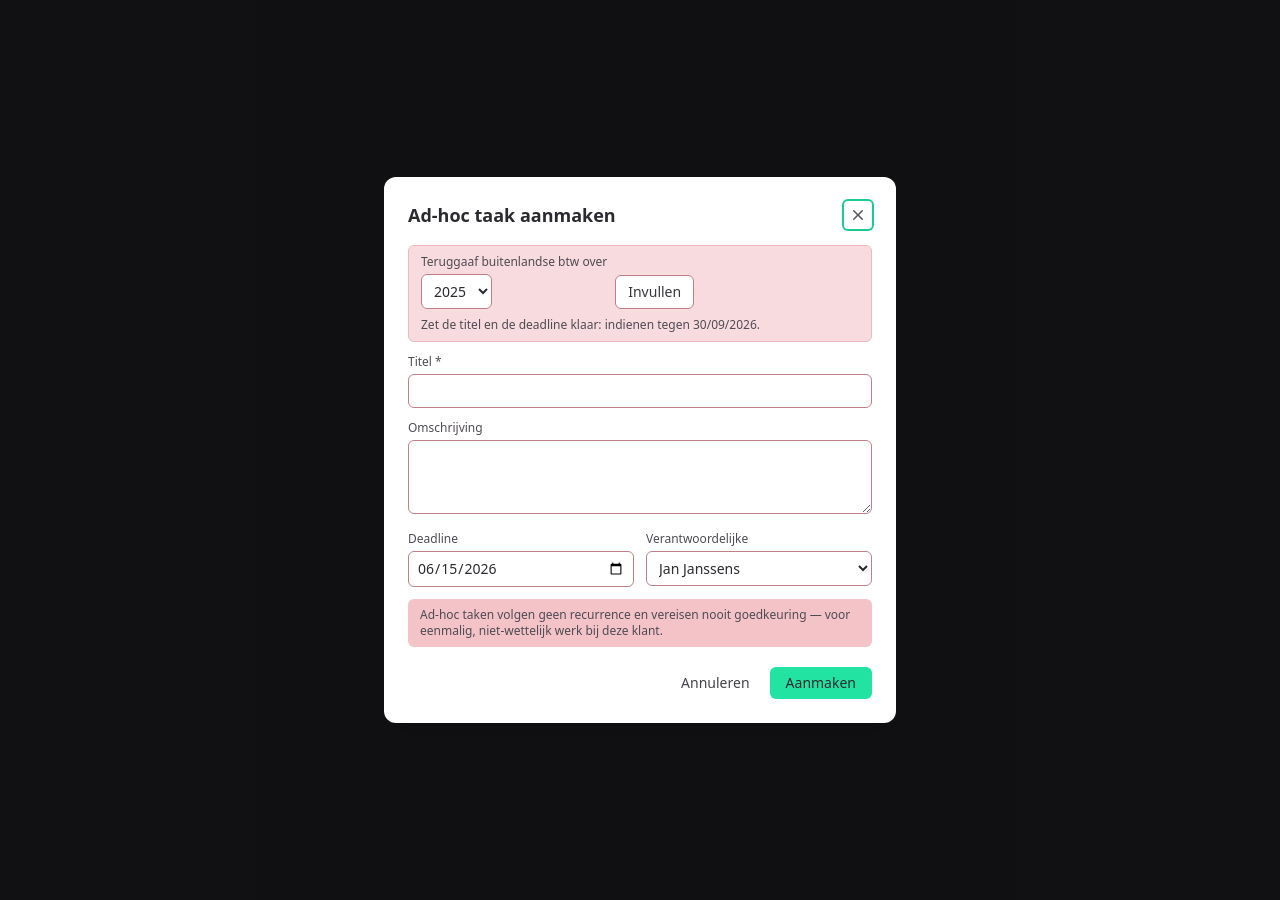
AdhocTaskFormModal — sneltoets voor de teruggaaf van buitenlandse btw › vult titel en deadline in, met de deadline een jaar later
Select "2025" in the dropdown labelled "Teruggaaf buitenlandse btw over": point(456, 292) [421,274,492,309]
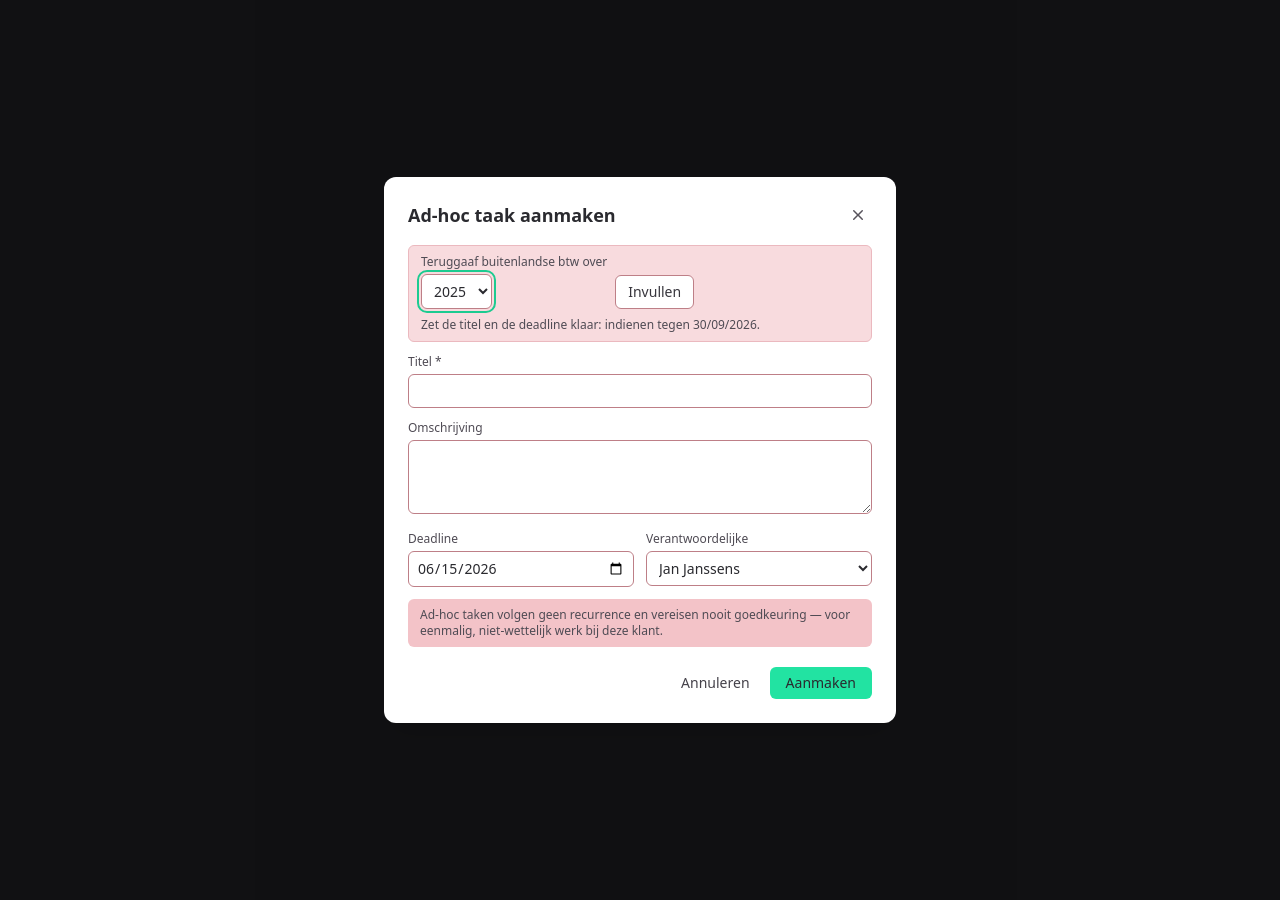
Click the button "Invullen": point(655, 292) [615,275,694,309]
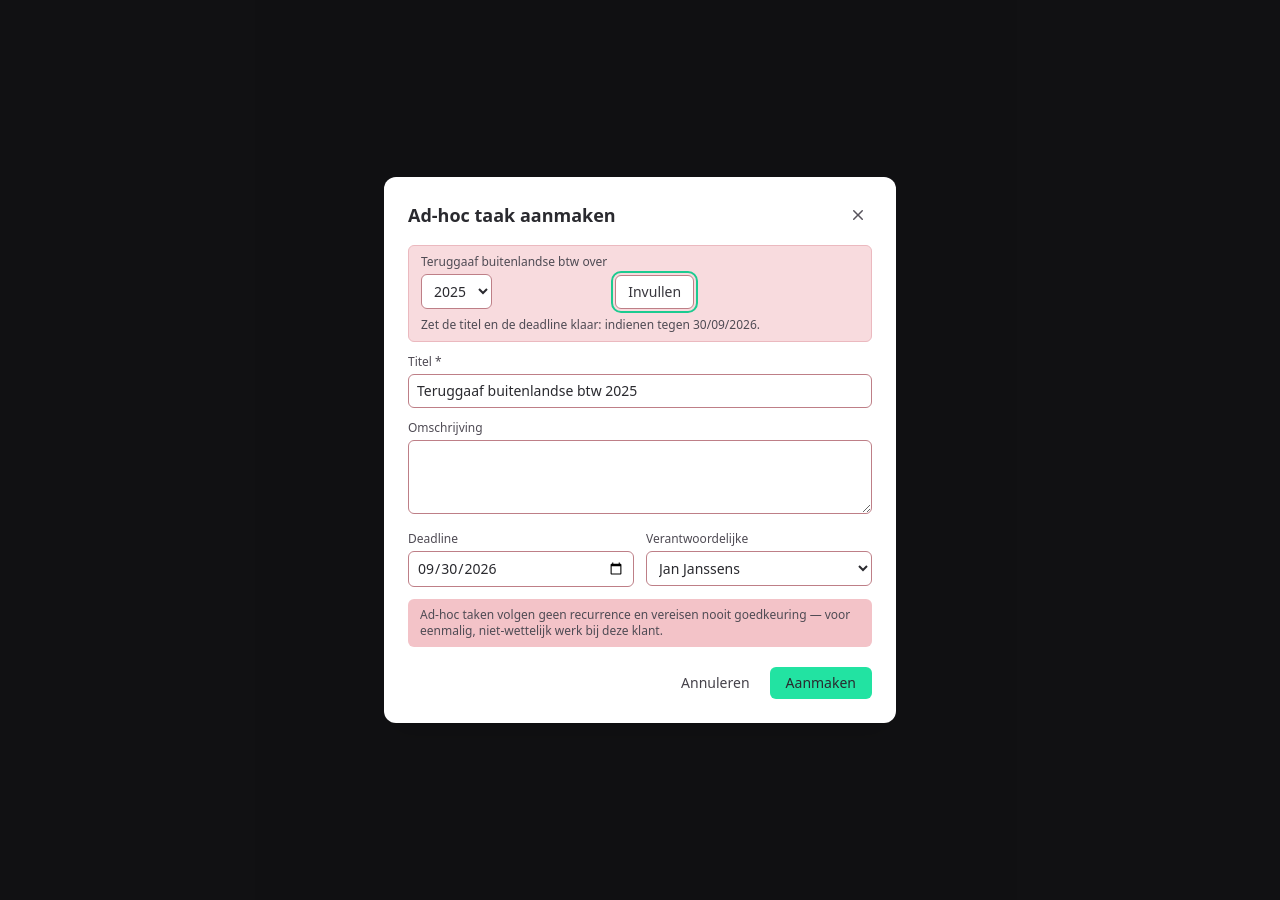
Expected: the field labelled "Titel *" holds "Teruggaaf buitenlandse btw 2025", [408,374,872,408]
Expected: the date field labelled "Deadline" holds "2026-09-30", [408,551,634,587]
